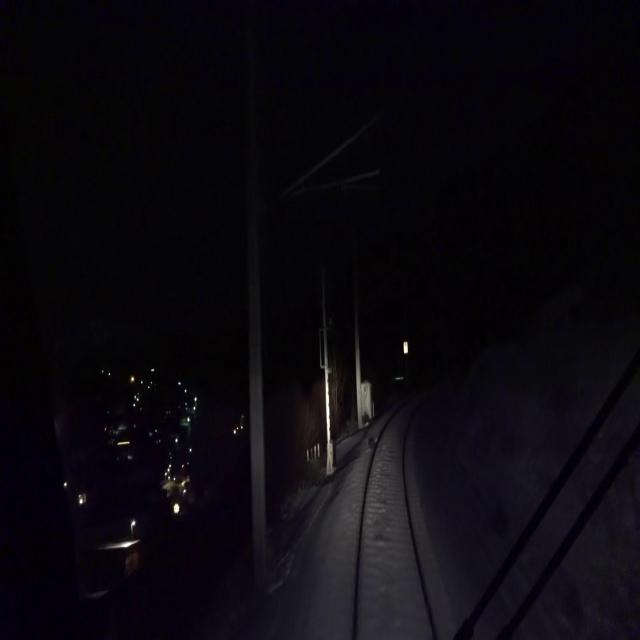rail-track: (358, 394, 432, 639)
